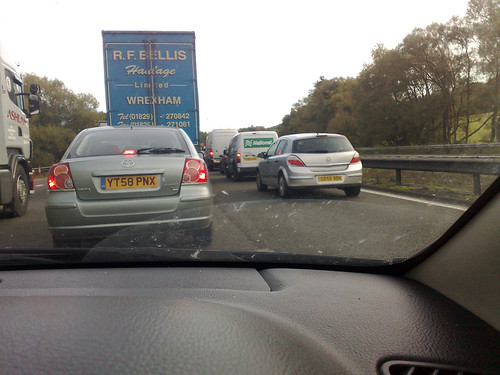car: (50, 121, 228, 248), (257, 134, 370, 202)
road: (1, 171, 439, 300)
truck: (91, 22, 202, 141)
vegetation: (299, 17, 500, 141)
